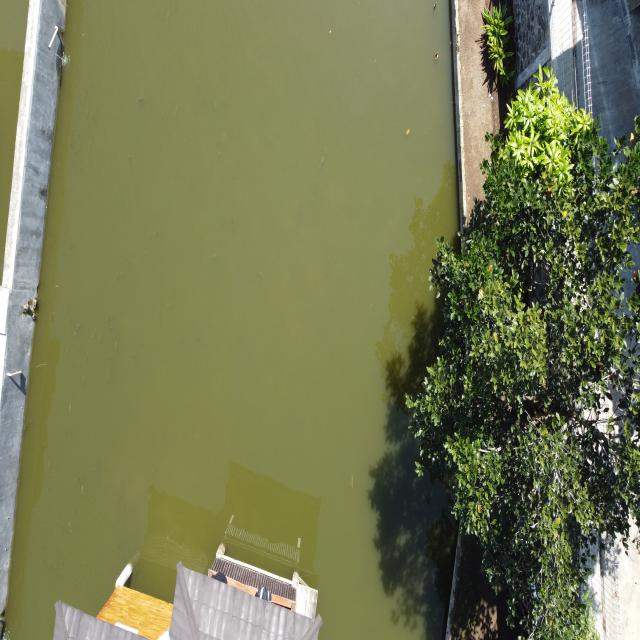Ponds: (1, 1, 477, 640)
